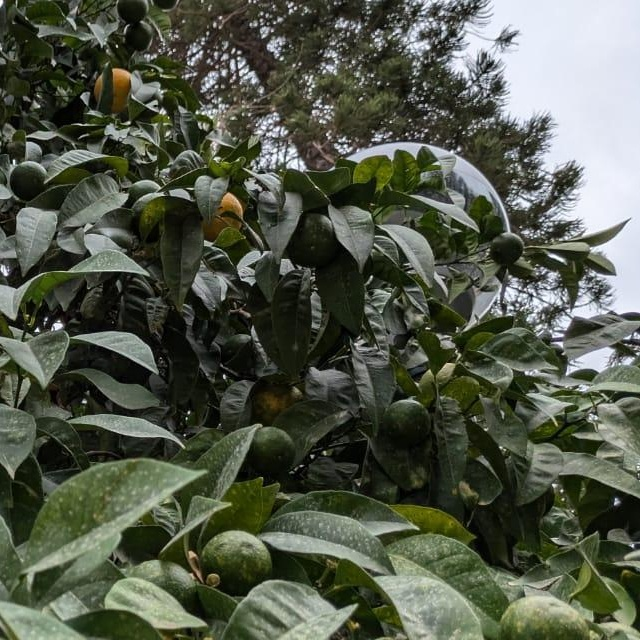orange: (489, 587, 599, 640), (196, 525, 274, 595), (283, 208, 343, 268), (379, 399, 437, 455), (198, 183, 248, 247), (240, 424, 298, 476), (249, 373, 307, 421), (91, 63, 133, 117), (4, 161, 46, 203), (120, 19, 154, 51), (489, 234, 521, 262), (118, 0, 150, 24), (147, 0, 183, 10)
